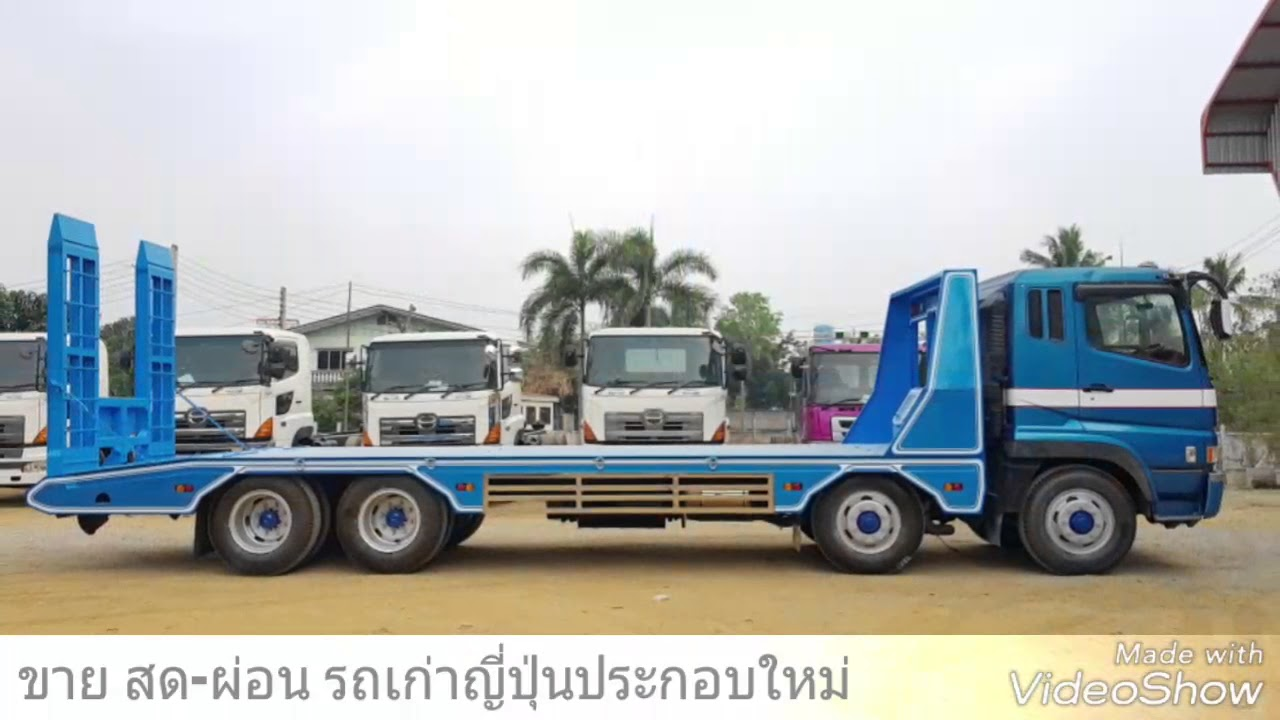truck: (888, 264, 1235, 580), (562, 322, 738, 444), (353, 327, 520, 447)
